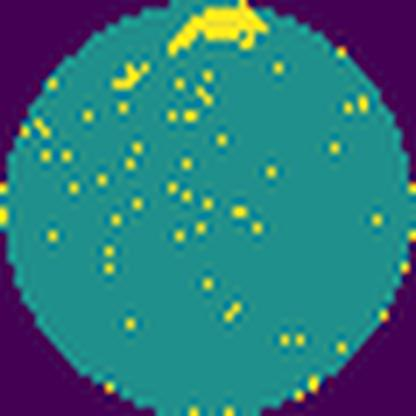Loc: (169, 1, 267, 57)
